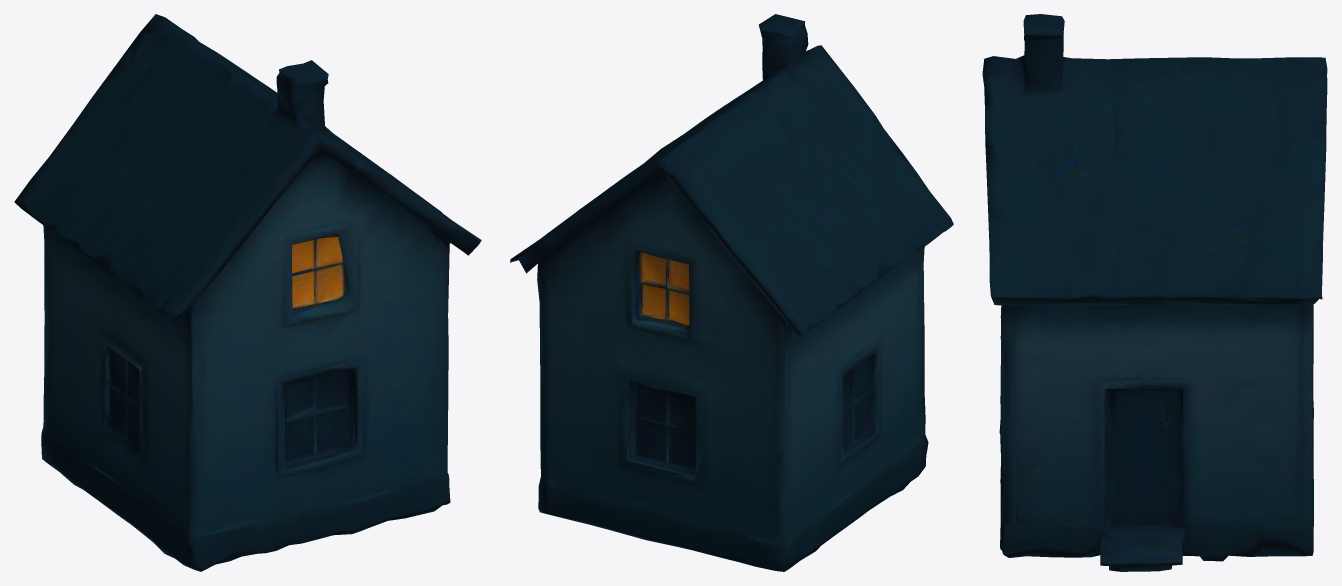
The model's file is 3d-dom.glb.
3 views of the same model, side by side, from view 1: azimuth 30°, elevation 25°; view 2: azimuth 150°, elevation 25°; view 3: azimuth 270°, elevation 25° (orthographic). The views are drawn at different scales.
Visible parts, largest first — view 1: tripo_node_46d241af-8c2f-4e3a-8500-86047cbb0899; view 2: tripo_node_46d241af-8c2f-4e3a-8500-86047cbb0899; view 3: tripo_node_46d241af-8c2f-4e3a-8500-86047cbb0899.
Part boxes in pixels (box(x1,y1,x2,y2)): tripo_node_46d241af-8c2f-4e3a-8500-86047cbb0899: box(14, 14, 481, 571); tripo_node_46d241af-8c2f-4e3a-8500-86047cbb0899: box(510, 14, 953, 571); tripo_node_46d241af-8c2f-4e3a-8500-86047cbb0899: box(982, 14, 1327, 571).
Size of the model in its own units: 0.7256 by 1 by 0.6582.
1 material, 1 textured.
